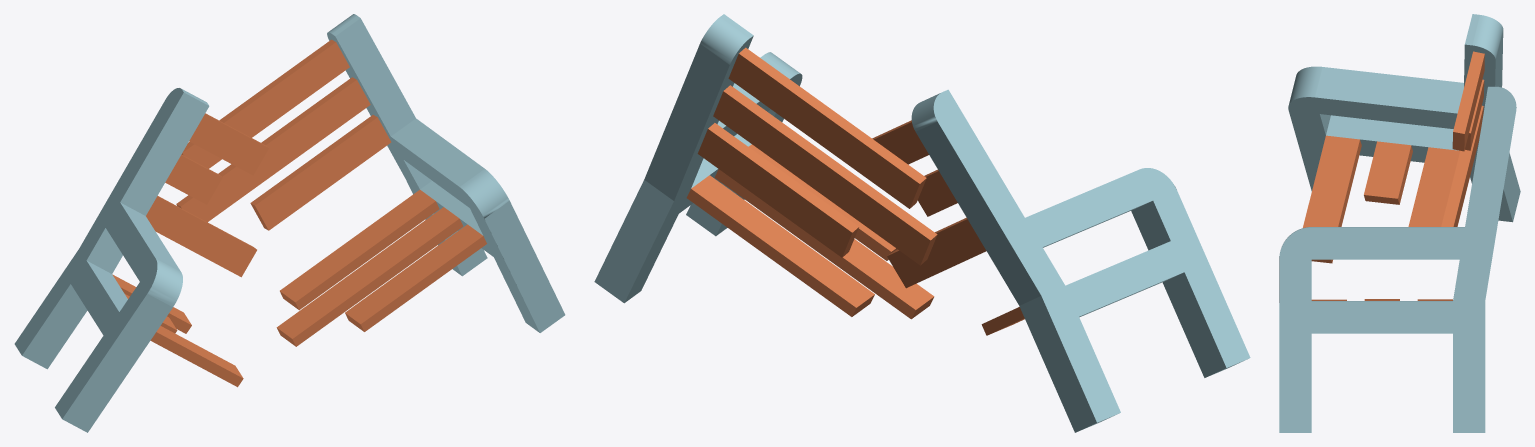
Rendered from benchDamaged.fbx.
3 renders of one model, left to right at view 1: azimuth 30°, elevation 25°; view 2: azimuth 150°, elevation 25°; view 3: azimuth 270°, elevation 25°, orthographic. The views are drawn at different scales.
Parts seen in each view (by area): view 1: benchBroken %8angles; view 2: benchBroken %8angles; view 3: benchBroken %8angles.
Part boxes in pixels (x1,y1,x2,y2): benchBroken %8angles: [14, 14, 565, 432]; benchBroken %8angles: [594, 14, 1250, 432]; benchBroken %8angles: [1279, 14, 1520, 432].
Bounding box in the file's own units: 9.9 × 5.32 × 3.83.
